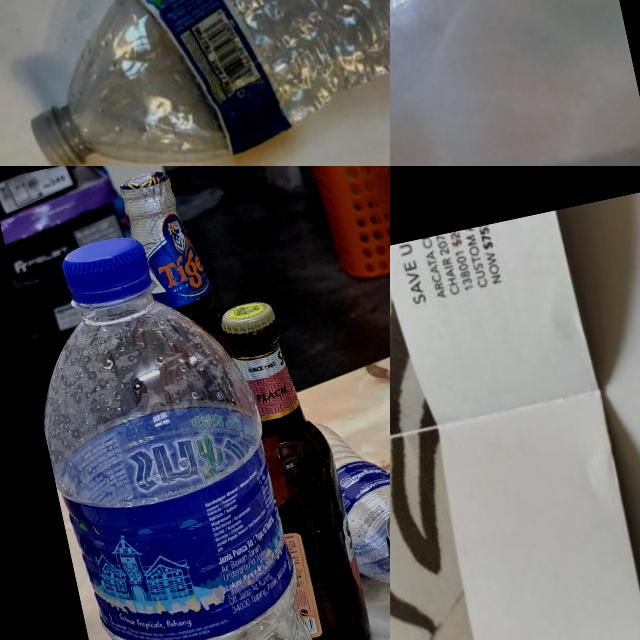garrafa de vidro: (219, 292, 376, 640), (118, 166, 232, 368)
garrafa plástica: (20, 273, 339, 640), (30, 0, 390, 166), (308, 406, 390, 593)
papel: (390, 208, 640, 640)
tampa plástica: (59, 229, 152, 307), (25, 100, 87, 166)
